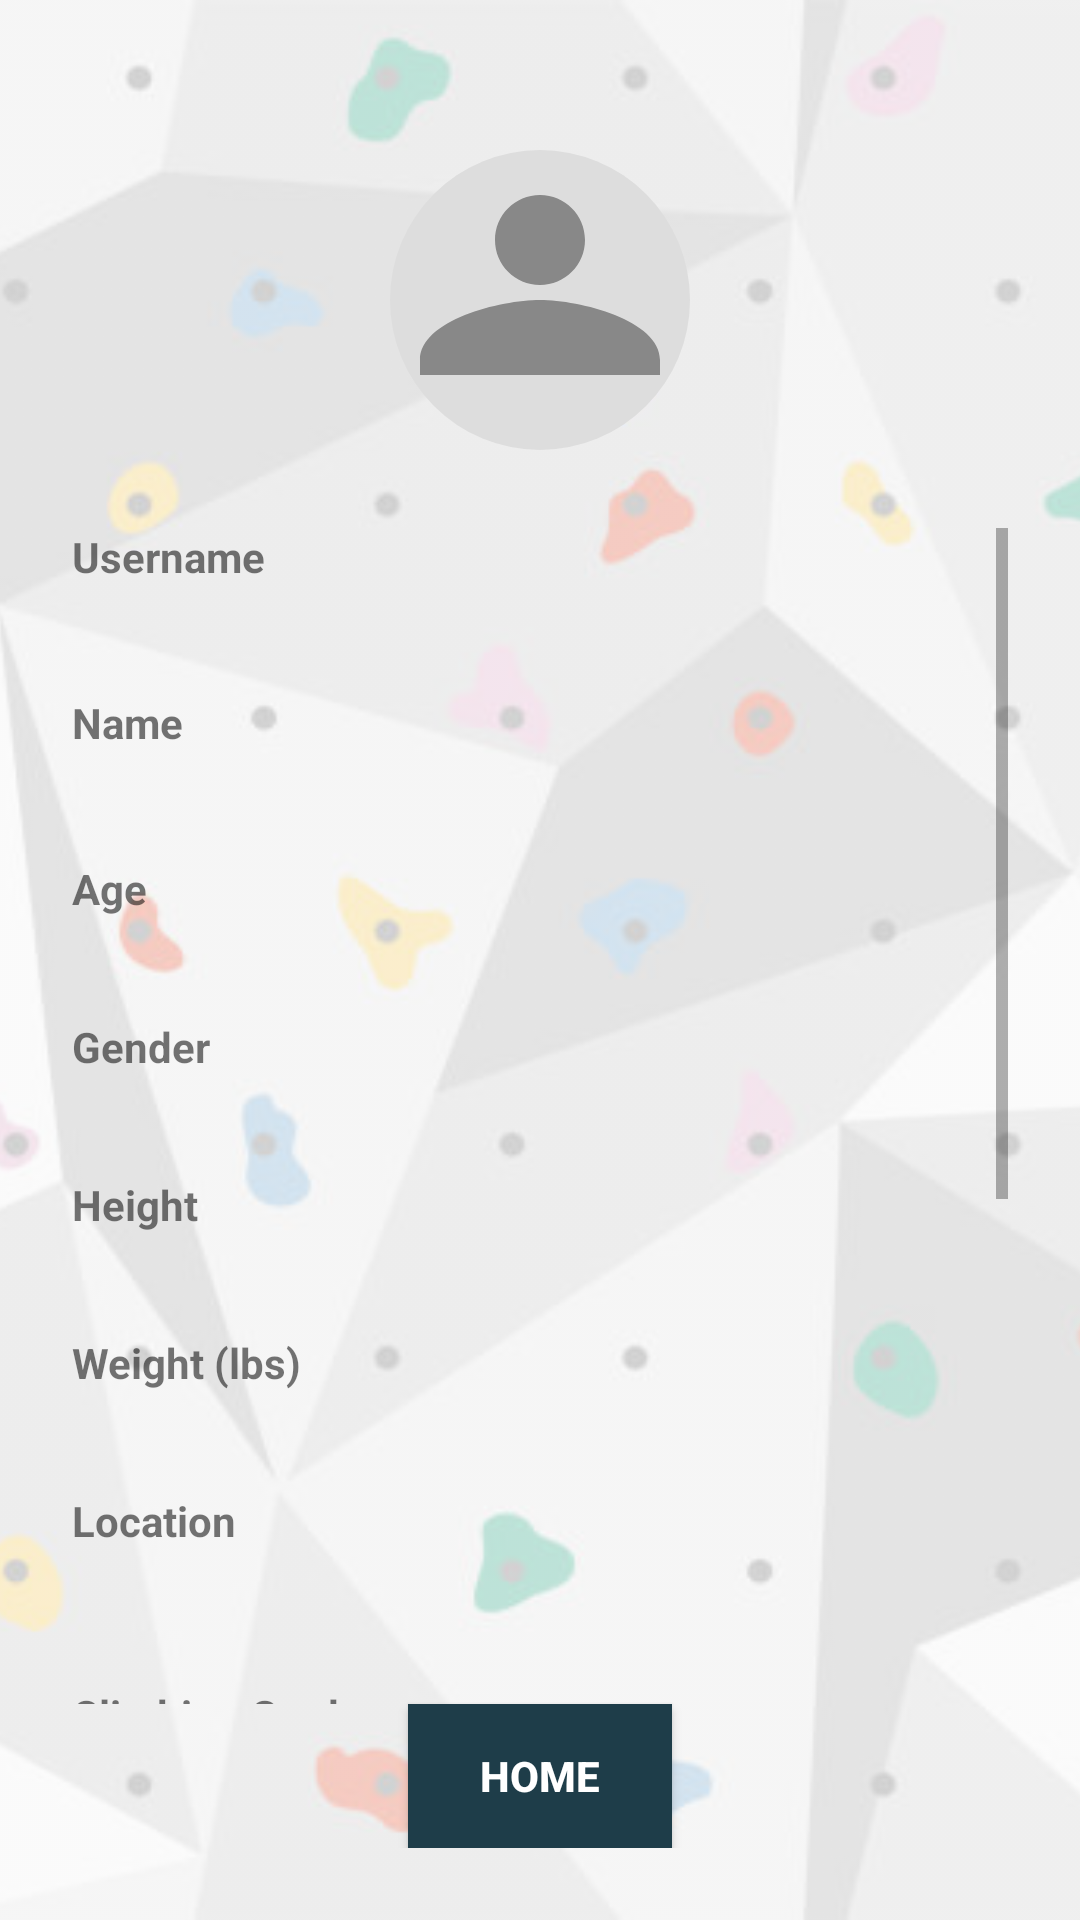

Icon click points for this 1080 × 1920 phone screenshot, format (x,y):
Profile Picture: (540,285)
